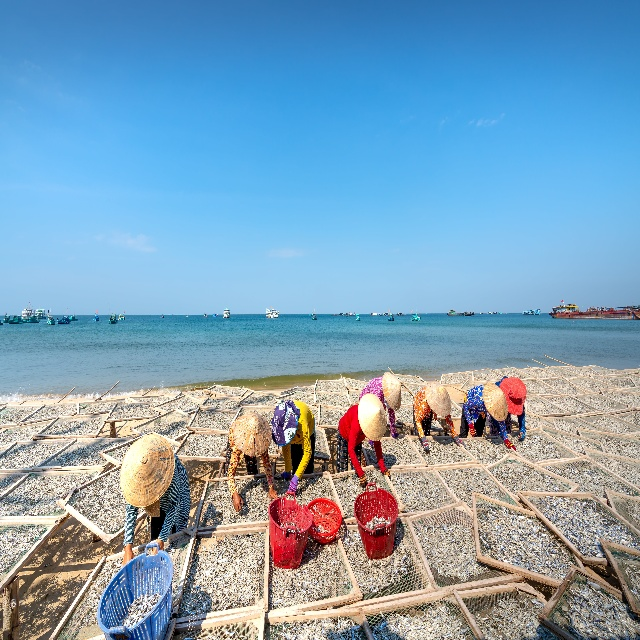Guantes: (455, 433, 469, 451), (288, 474, 298, 493), (421, 435, 430, 452), (504, 438, 516, 450), (382, 467, 392, 478), (359, 473, 367, 486), (281, 470, 292, 478), (469, 422, 475, 436)
Sin_guantes: (122, 546, 135, 564), (152, 540, 164, 558), (232, 493, 243, 512), (269, 486, 278, 502)
